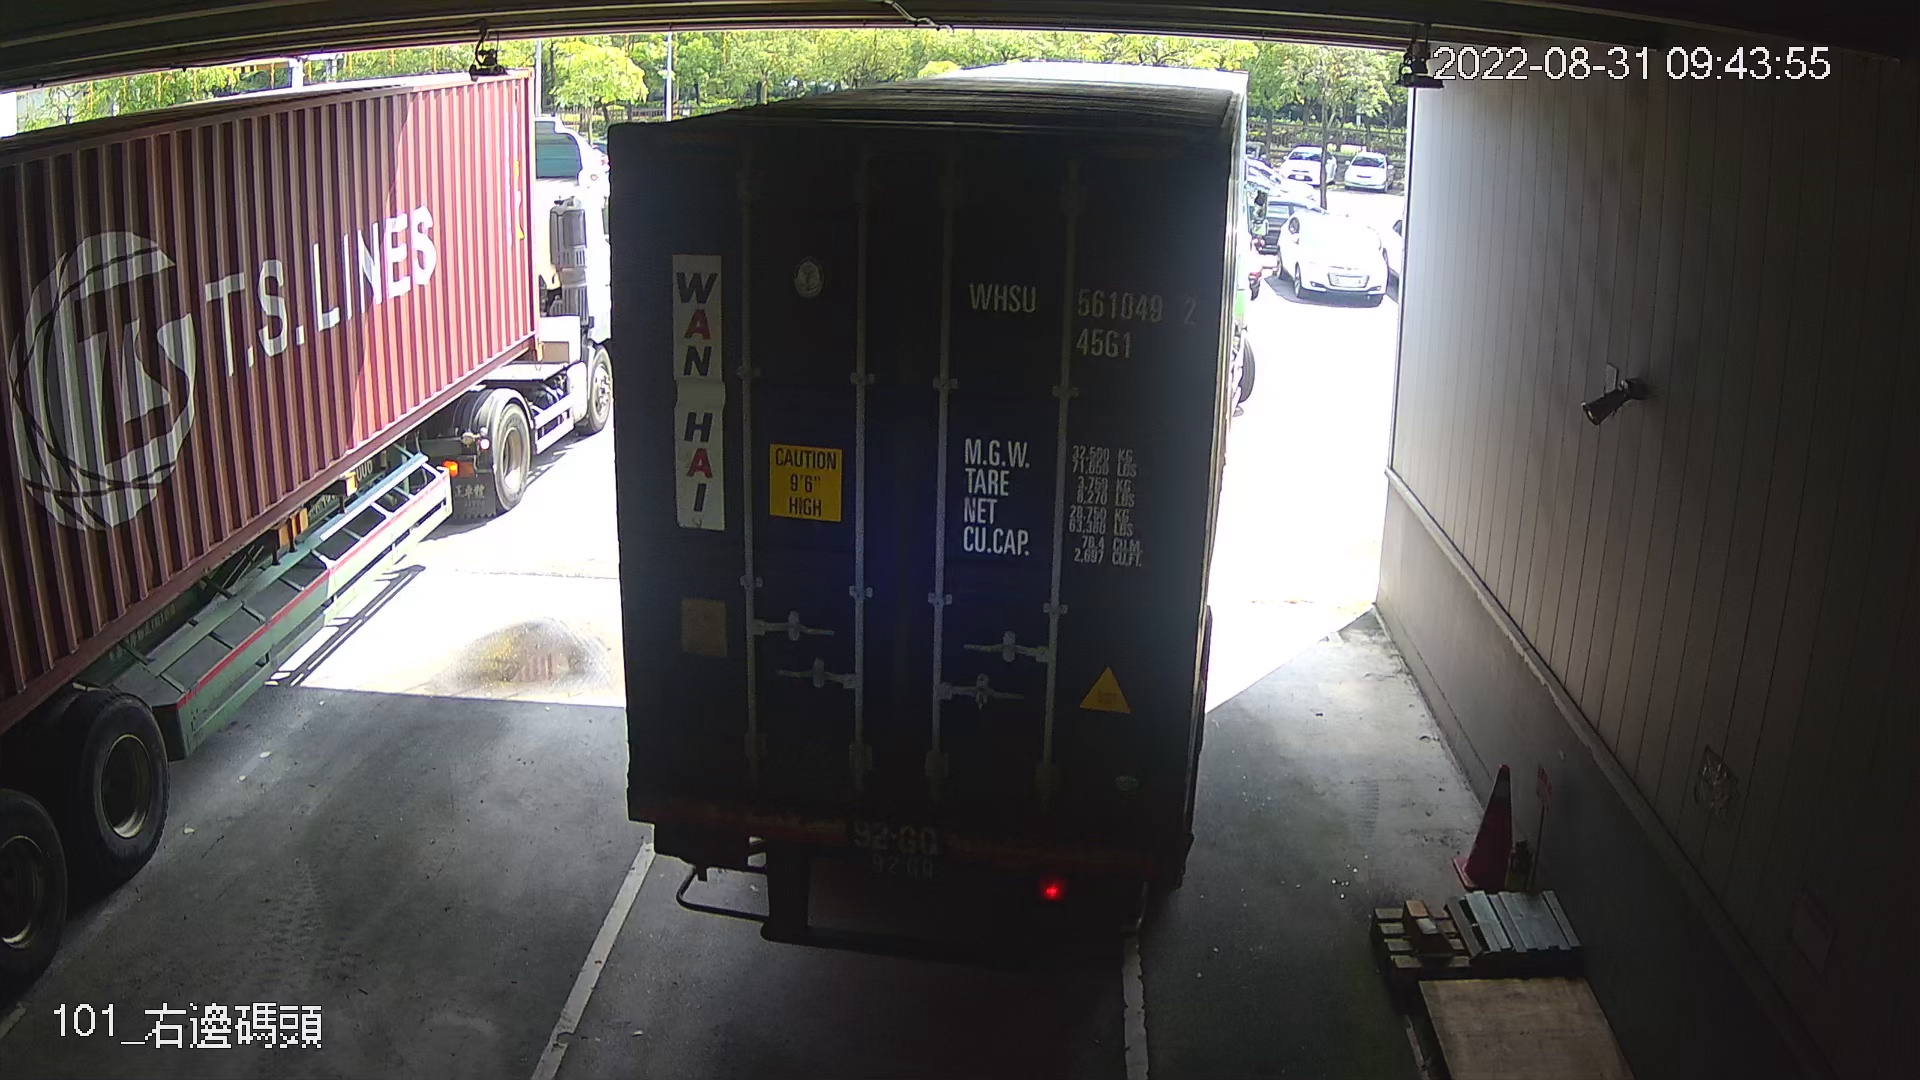container: (949, 266, 1212, 369)
